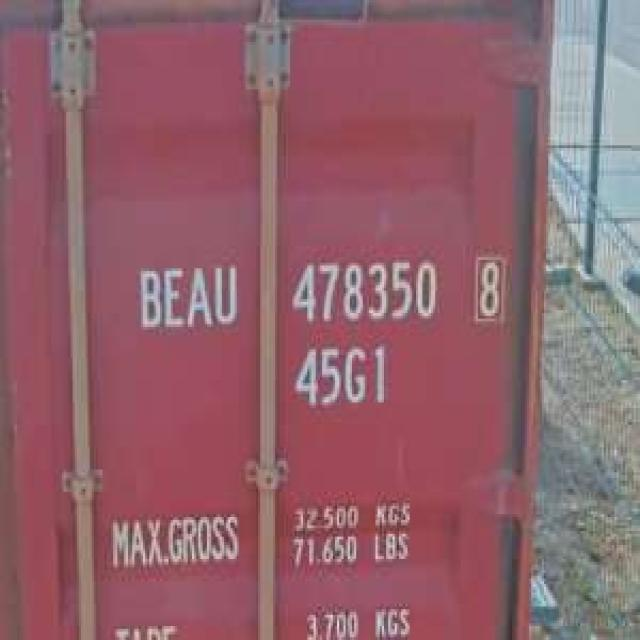dv: (471, 255, 506, 323)
owner: (133, 260, 241, 334)
serial: (287, 255, 441, 327)
size: (290, 340, 393, 412)
